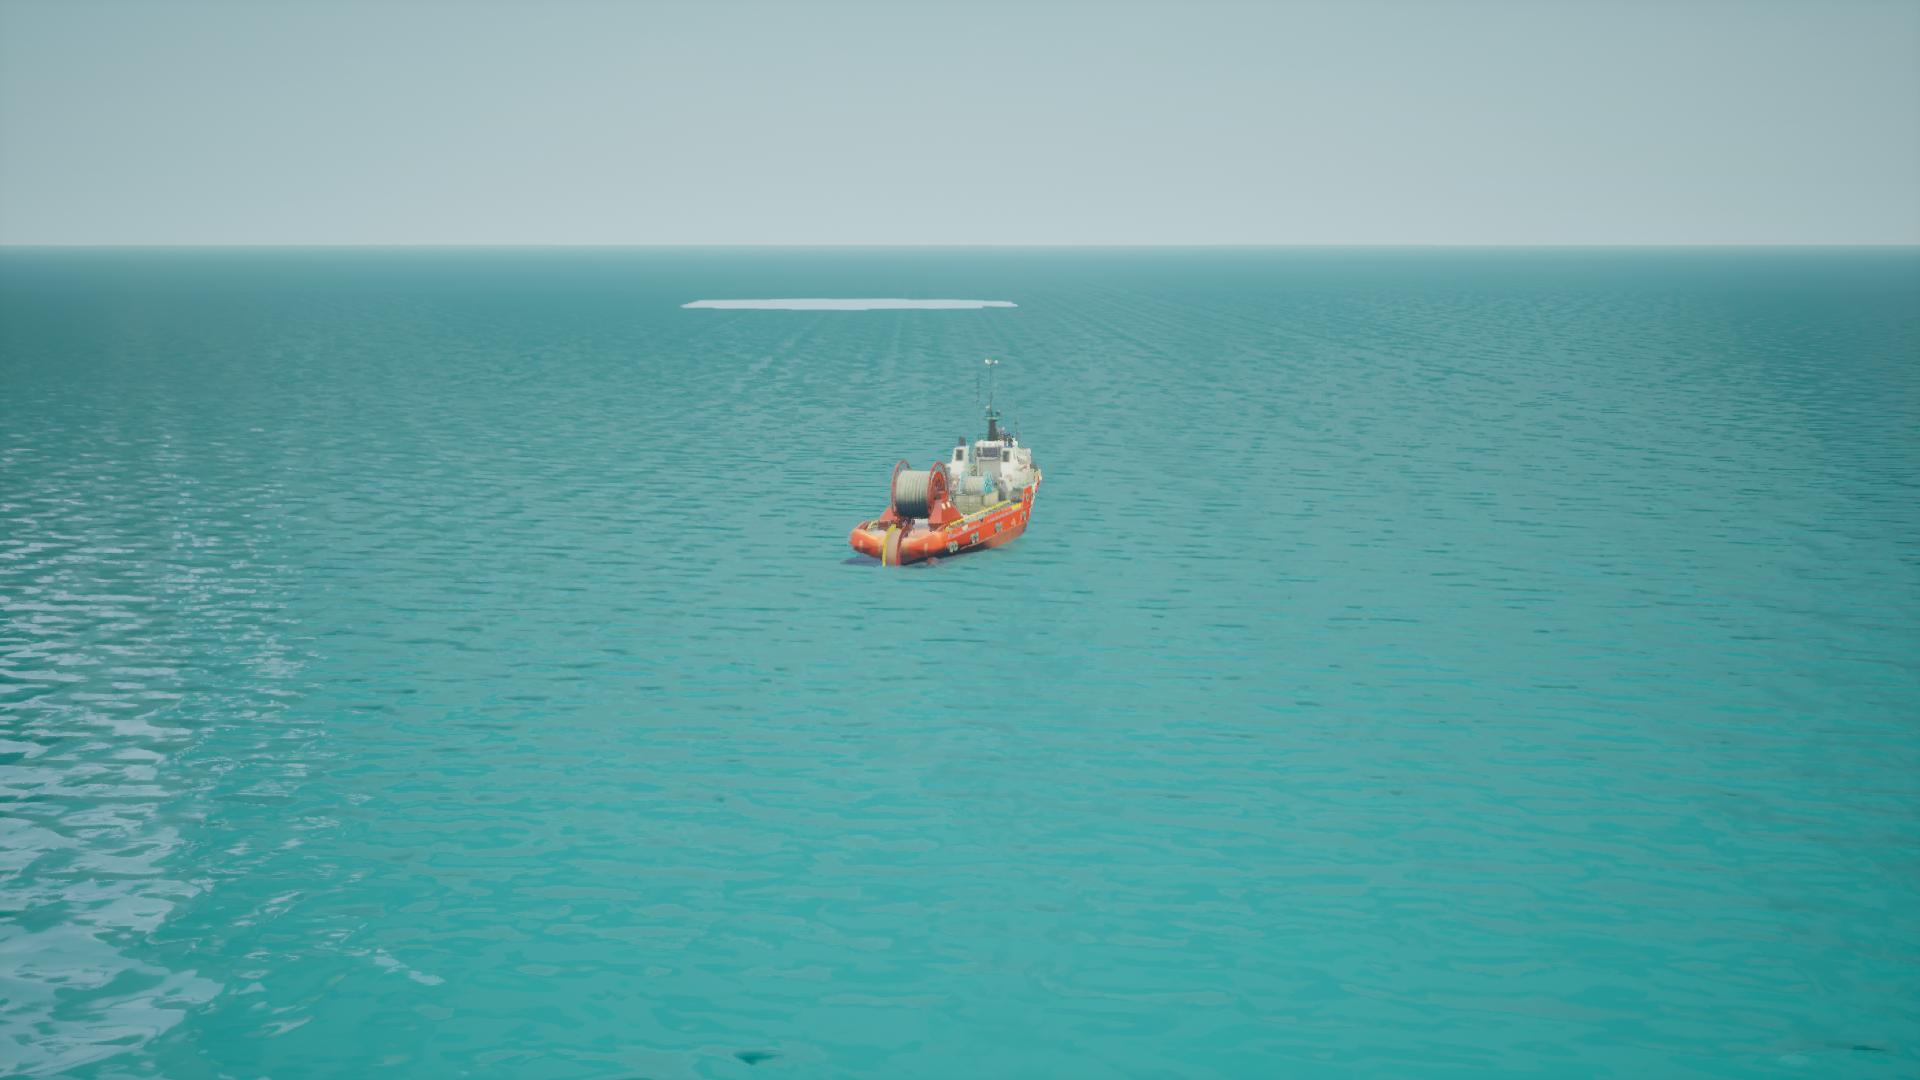Tug Boat: (855, 363, 1043, 570)
